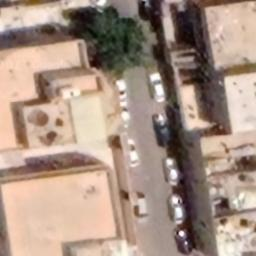sedan: (158, 154, 186, 188), (144, 69, 170, 105)
truck: (109, 78, 132, 110), (121, 138, 143, 170)
